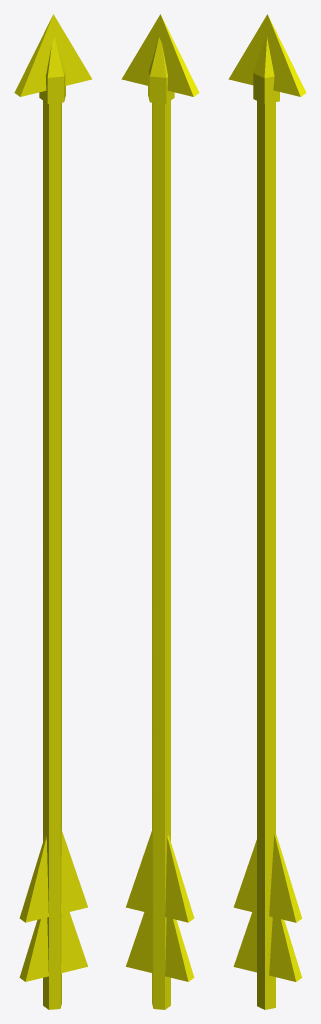
File: _arrow_c_17.glb
The picture shows the model from 3 angles, left to right: view 1: azimuth 30°, elevation 25°; view 2: azimuth 150°, elevation 25°; view 3: azimuth 330°, elevation 25°; orthographic projection.
Parts seen in each view (by area): view 1: arrow_c_17; view 2: arrow_c_17; view 3: arrow_c_17.
Part boxes in pixels (x1,y1,x2,y2): arrow_c_17: [14, 14, 92, 1009]; arrow_c_17: [121, 14, 199, 1009]; arrow_c_17: [228, 14, 306, 1009].
Size of the model in its own units: 0.0437 by 0.573 by 0.0143.
Materials: 1 (1 with a texture image).
